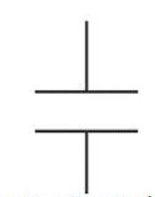Capacitor: (23, 64, 144, 165)
